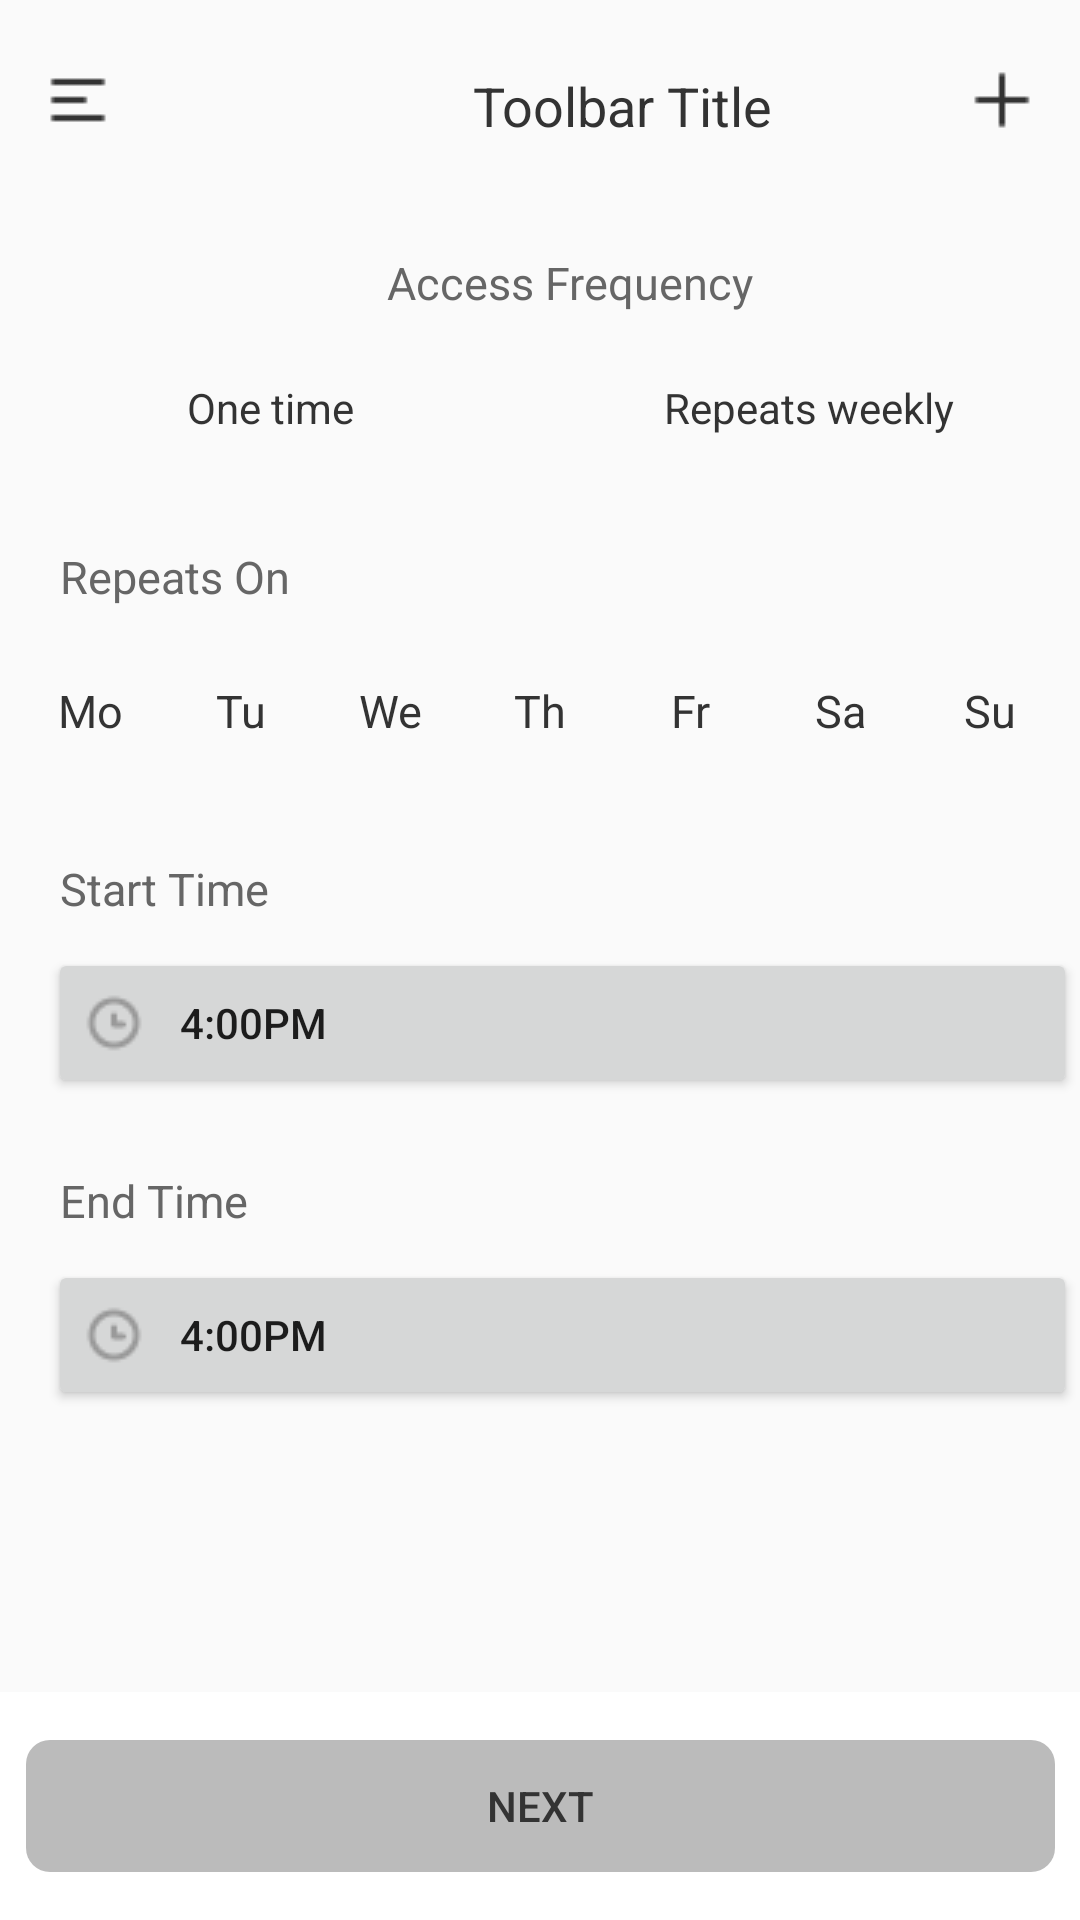

Icons on this 1080w x 1920h Android screen, each with the point to tap as (x=x, y=y):
add: (x=1002, y=100)
menu: (x=78, y=100)
